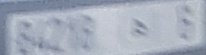h: (124, 16, 149, 40)
